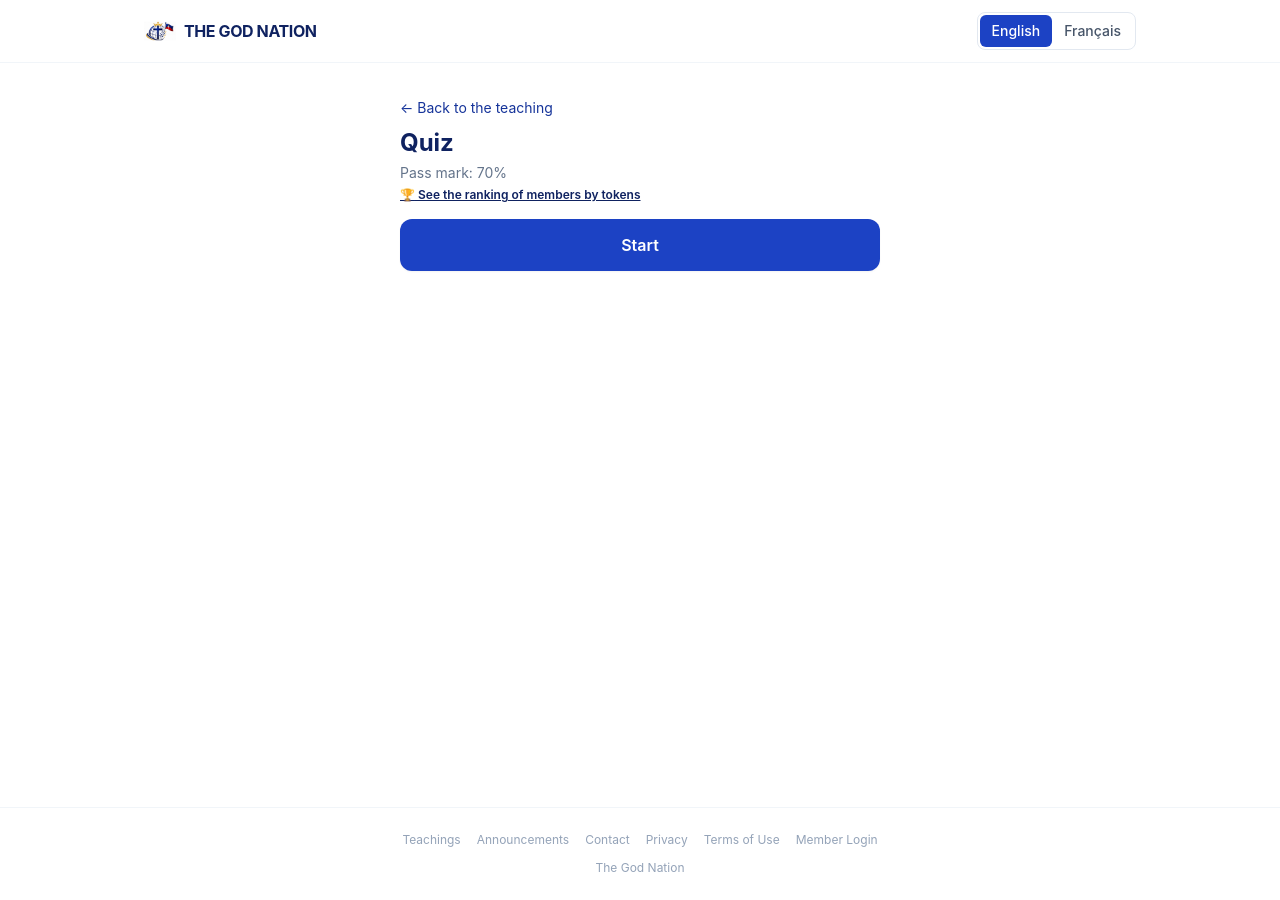
Back to the teaching after its quiz › stays when the member chooses to read the correct answers
Click the button "Start". click: (640, 245)
box: [400,219,880,271]
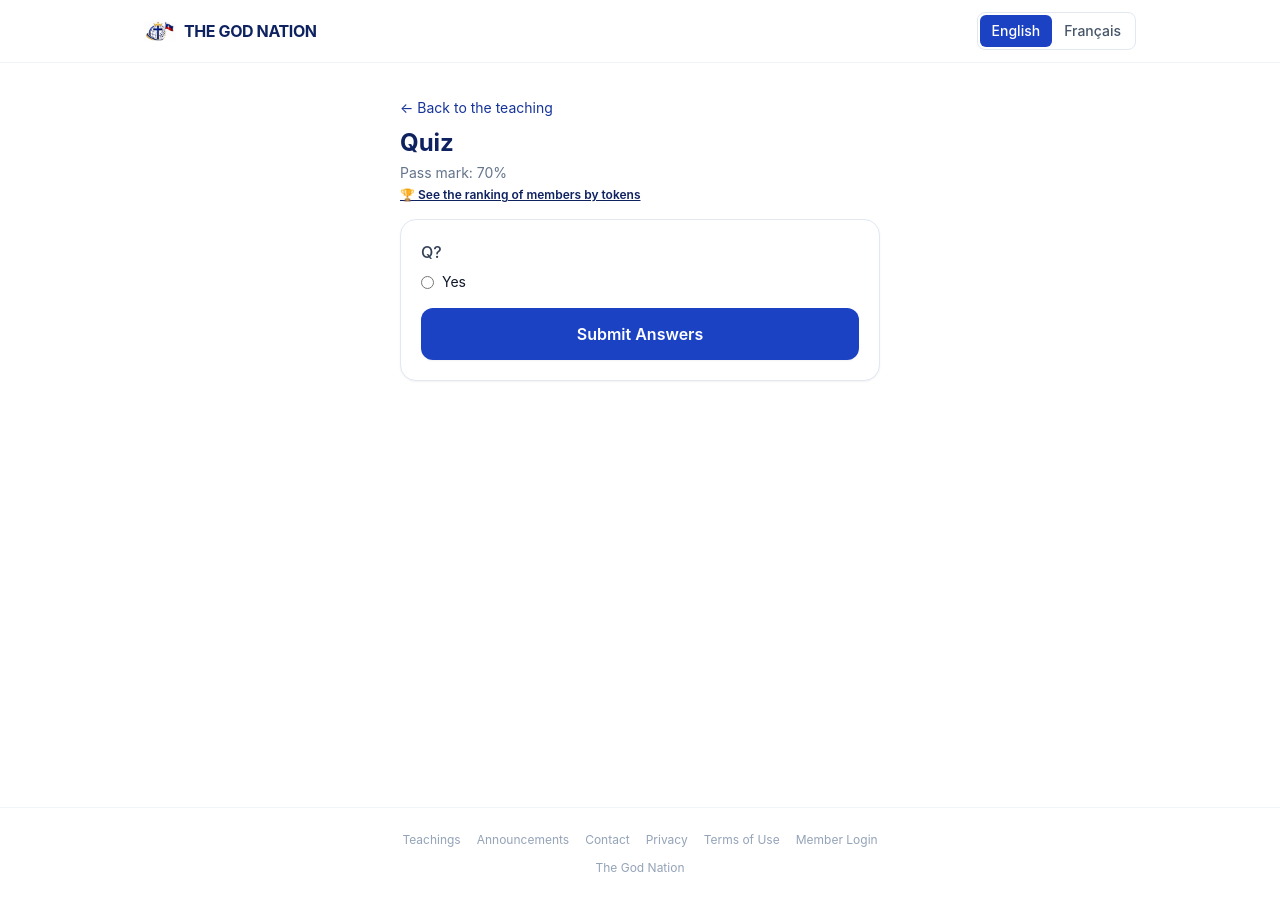
Click the radio button labelled "Yes". click: (428, 282)
box: [421,276,434,288]
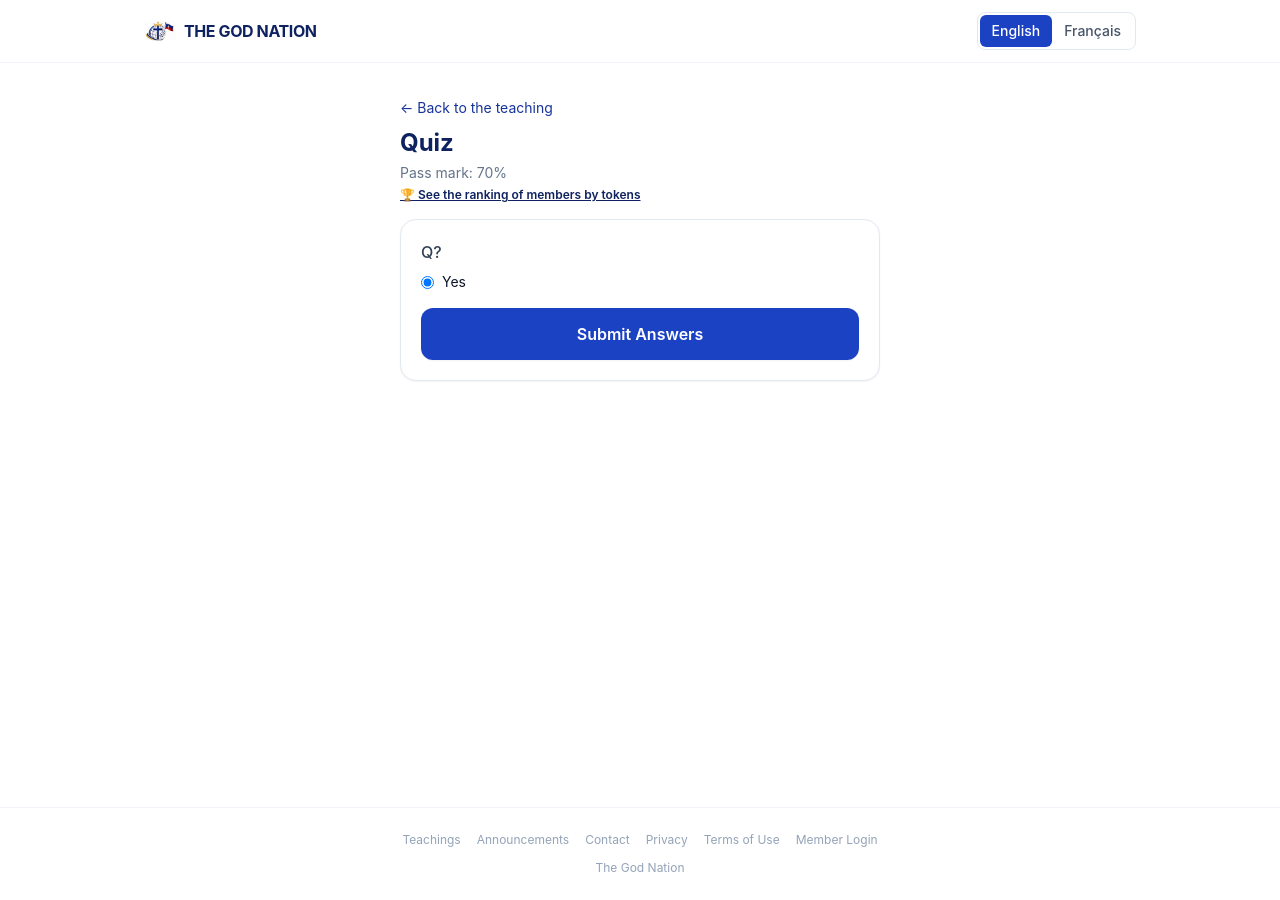
Click the button "Submit Answers". click: (640, 334)
box: [421,308,859,360]
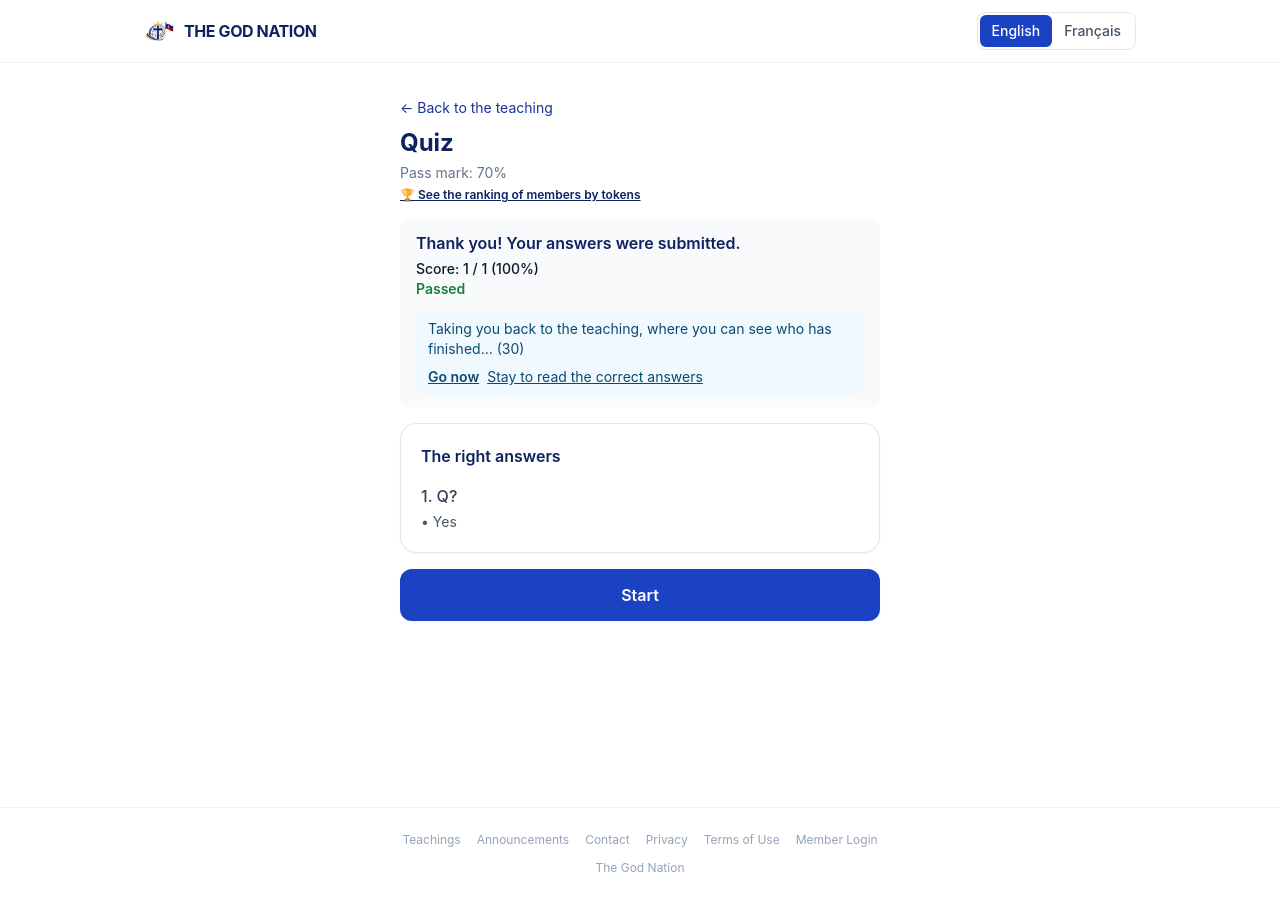
Expected: the message with test id "back-to-teaching" is shown, [416,311,864,395]
Click the button "Stay to read the correct answers". click: (595, 377)
box: [487,367,703,387]
Wait 12000 ms
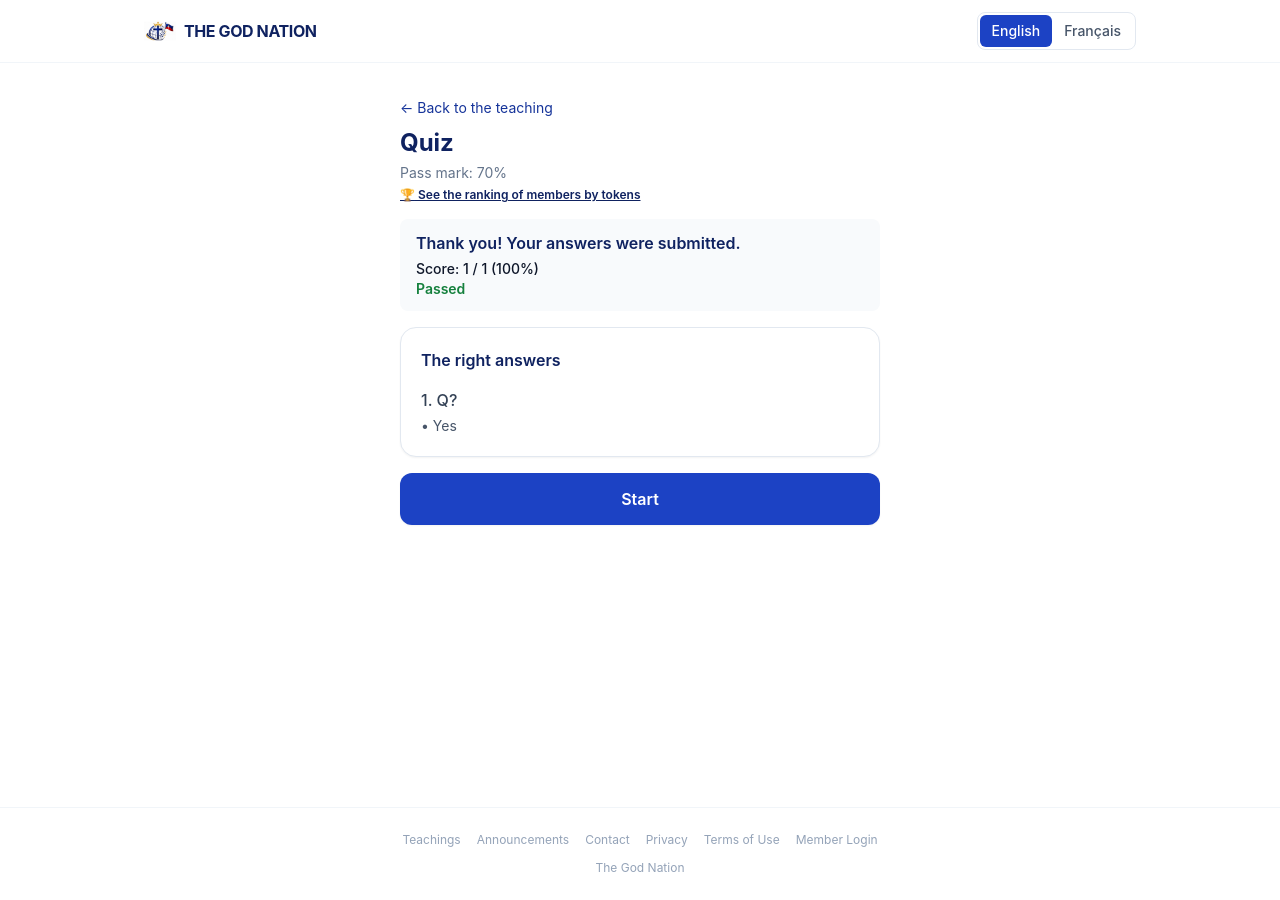
Expected: the message with test id "back-to-teaching" is gone
